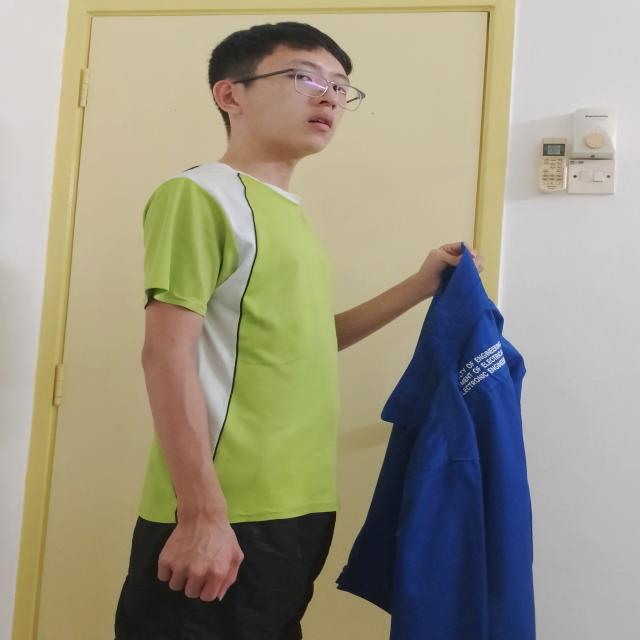person_without_labcoat: (114, 23, 535, 640)
